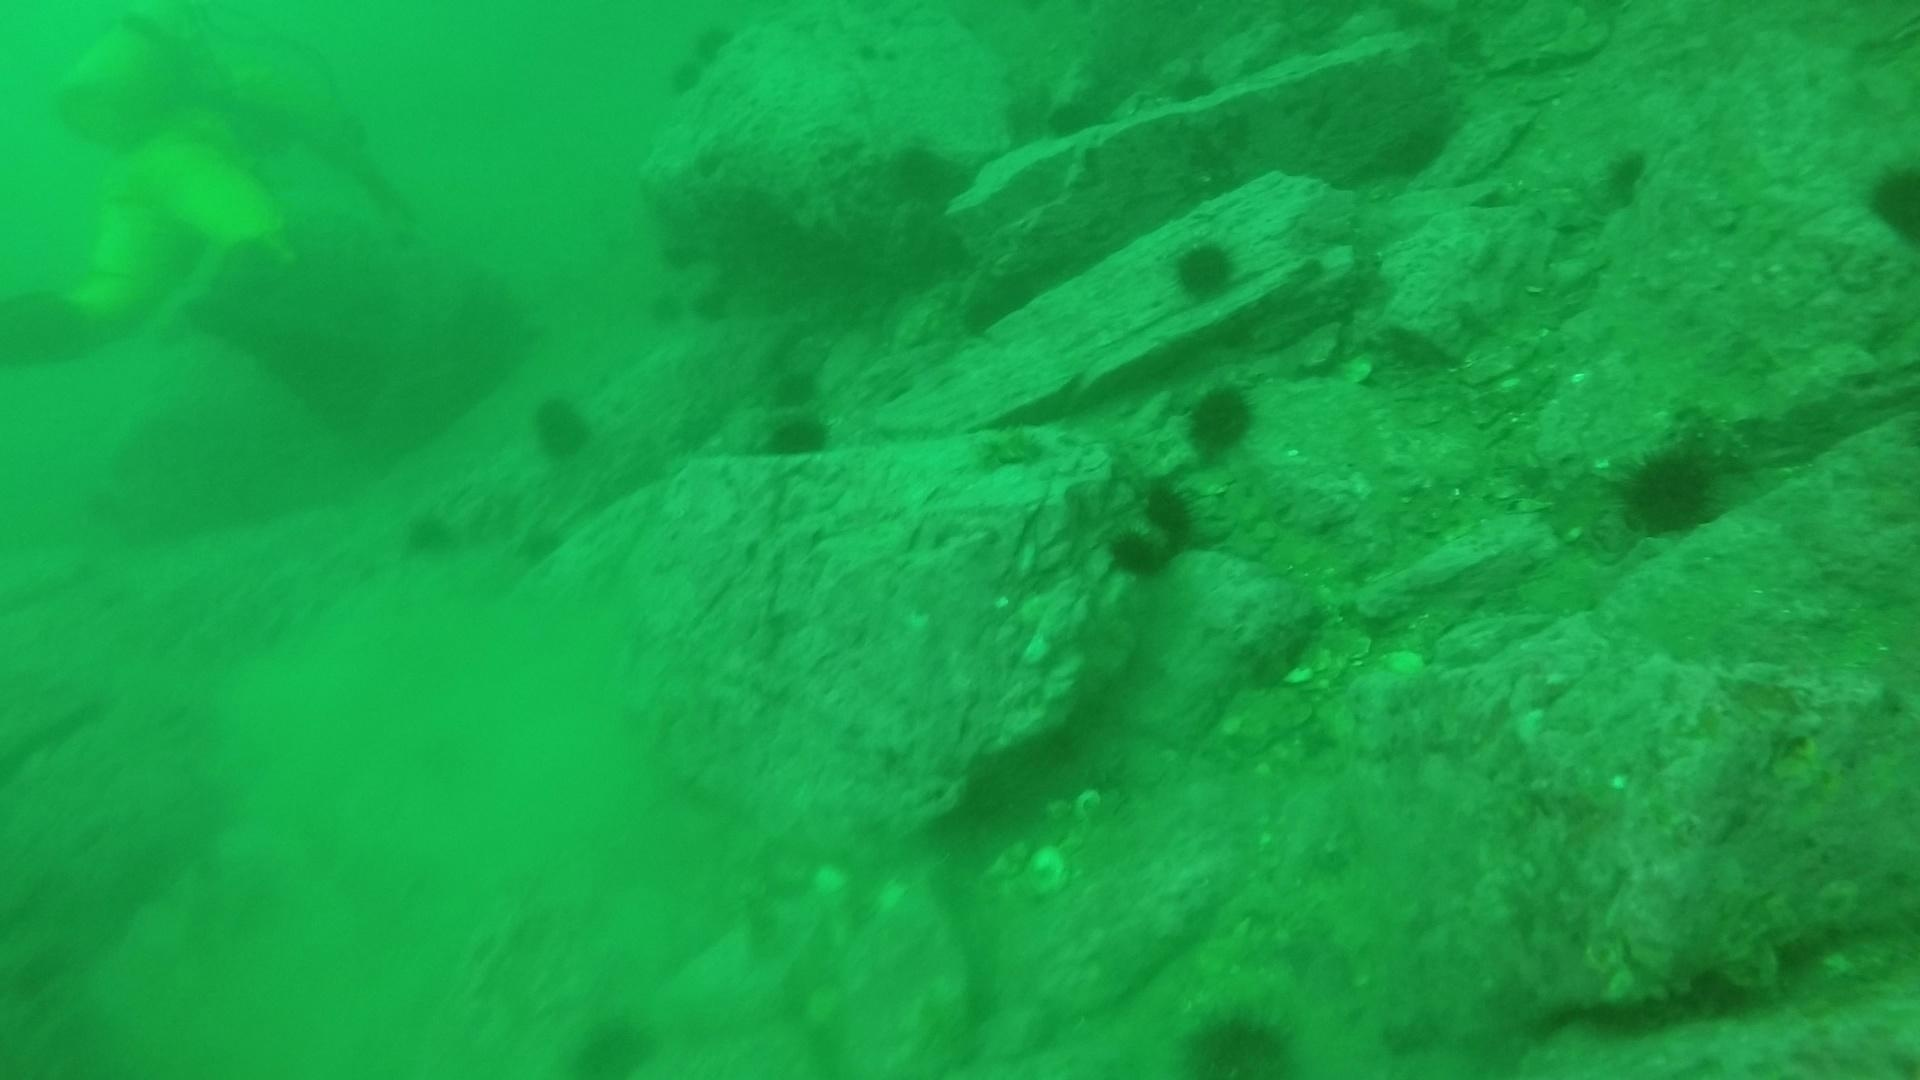echinus: (1611, 438, 1729, 541), (1178, 1001, 1300, 1073), (1175, 377, 1263, 465), (566, 1007, 663, 1077), (1160, 232, 1247, 309), (866, 113, 952, 190), (1590, 135, 1676, 210), (760, 342, 845, 417), (1100, 513, 1185, 585), (1859, 152, 1920, 251), (1141, 465, 1218, 538), (756, 402, 837, 465), (398, 502, 464, 563), (686, 276, 748, 335), (640, 282, 702, 342), (647, 231, 709, 290), (654, 45, 716, 104), (688, 15, 752, 73), (537, 407, 599, 465), (526, 382, 588, 440), (1038, 83, 1100, 141), (1162, 57, 1224, 115), (1447, 18, 1509, 76)
